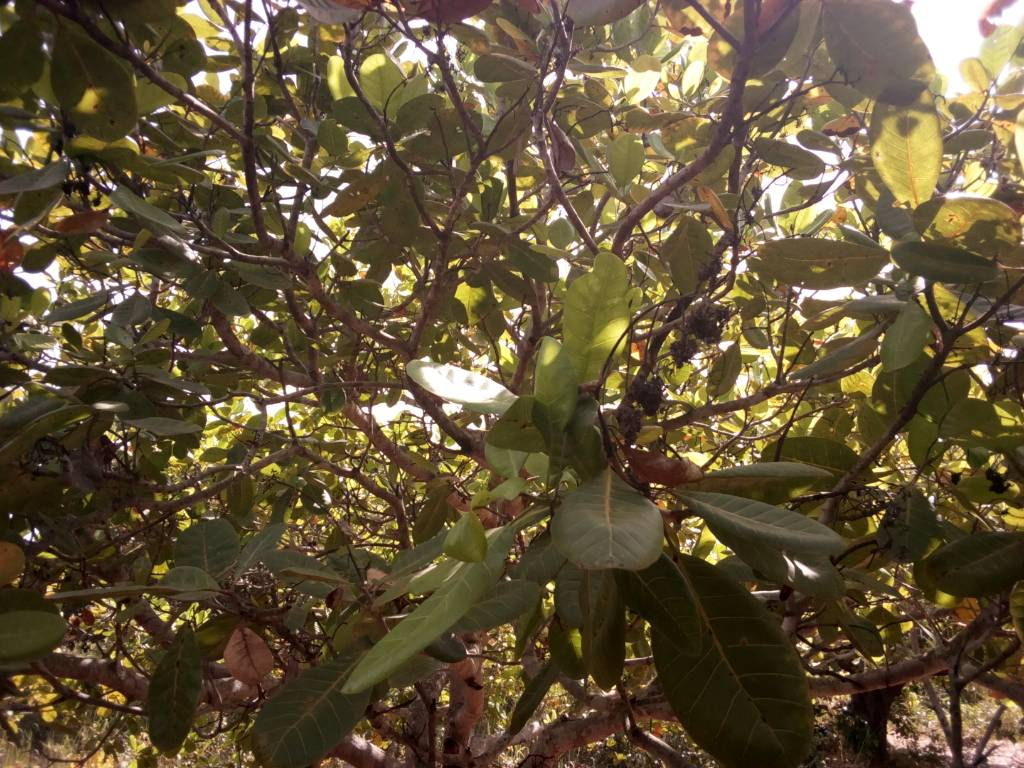Dessèchement des bourgeons: (670, 290, 729, 363), (617, 371, 663, 432)
